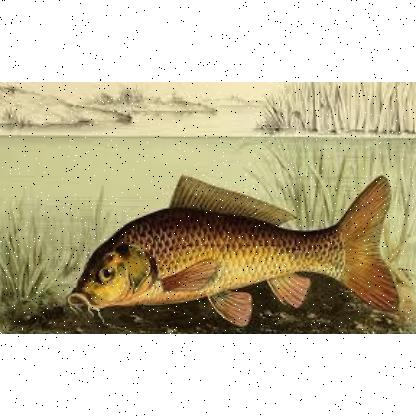ikan-mas: (70, 182, 398, 324)
